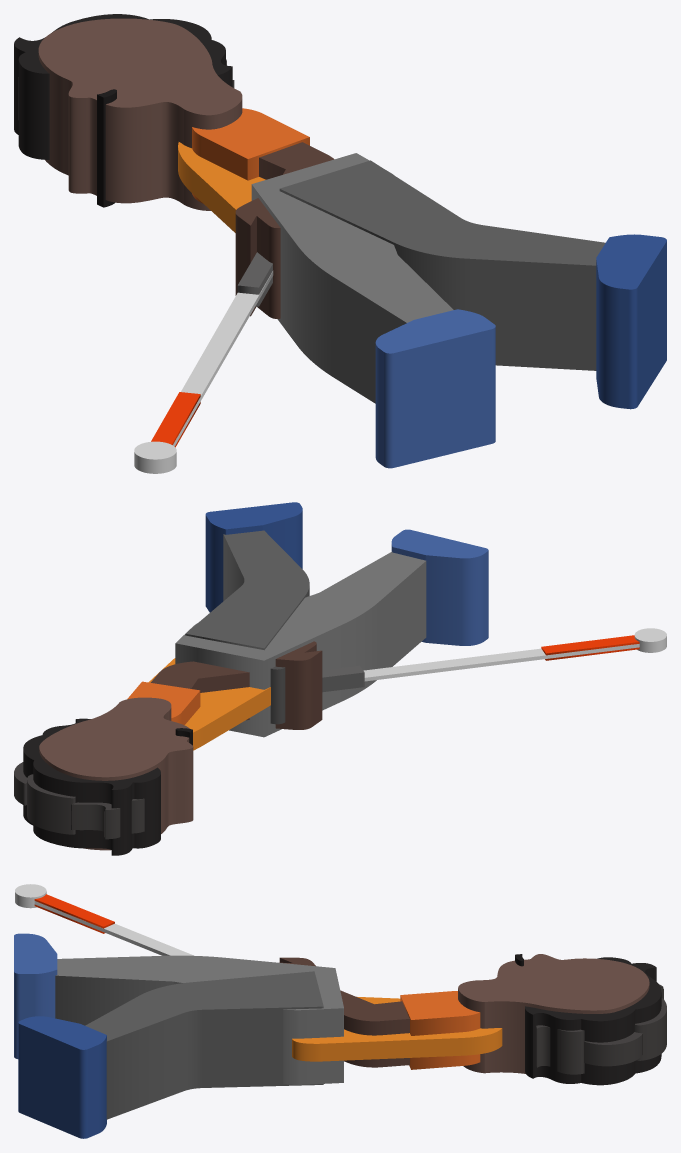
The model's file is emoji_u1f9d1_1f3ff_200d_1f9af.glb.
3 renders of one model, top to bottom at view 1: azimuth 30°, elevation 25°; view 2: azimuth 150°, elevation 25°; view 3: azimuth 270°, elevation 25°, orthographic. The views are drawn at different scales.
Visible parts, largest first — view 1: emoji_u1f9d1_1f3ff_200d_1f9af; view 2: emoji_u1f9d1_1f3ff_200d_1f9af; view 3: emoji_u1f9d1_1f3ff_200d_1f9af.
Part boxes in pixels (x1,y1,x2,y2): emoji_u1f9d1_1f3ff_200d_1f9af: [14, 14, 666, 473]; emoji_u1f9d1_1f3ff_200d_1f9af: [14, 502, 666, 855]; emoji_u1f9d1_1f3ff_200d_1f9af: [14, 884, 666, 1138].
Size of the model in its own units: 0.0247 by 0.005 by 0.0333.
